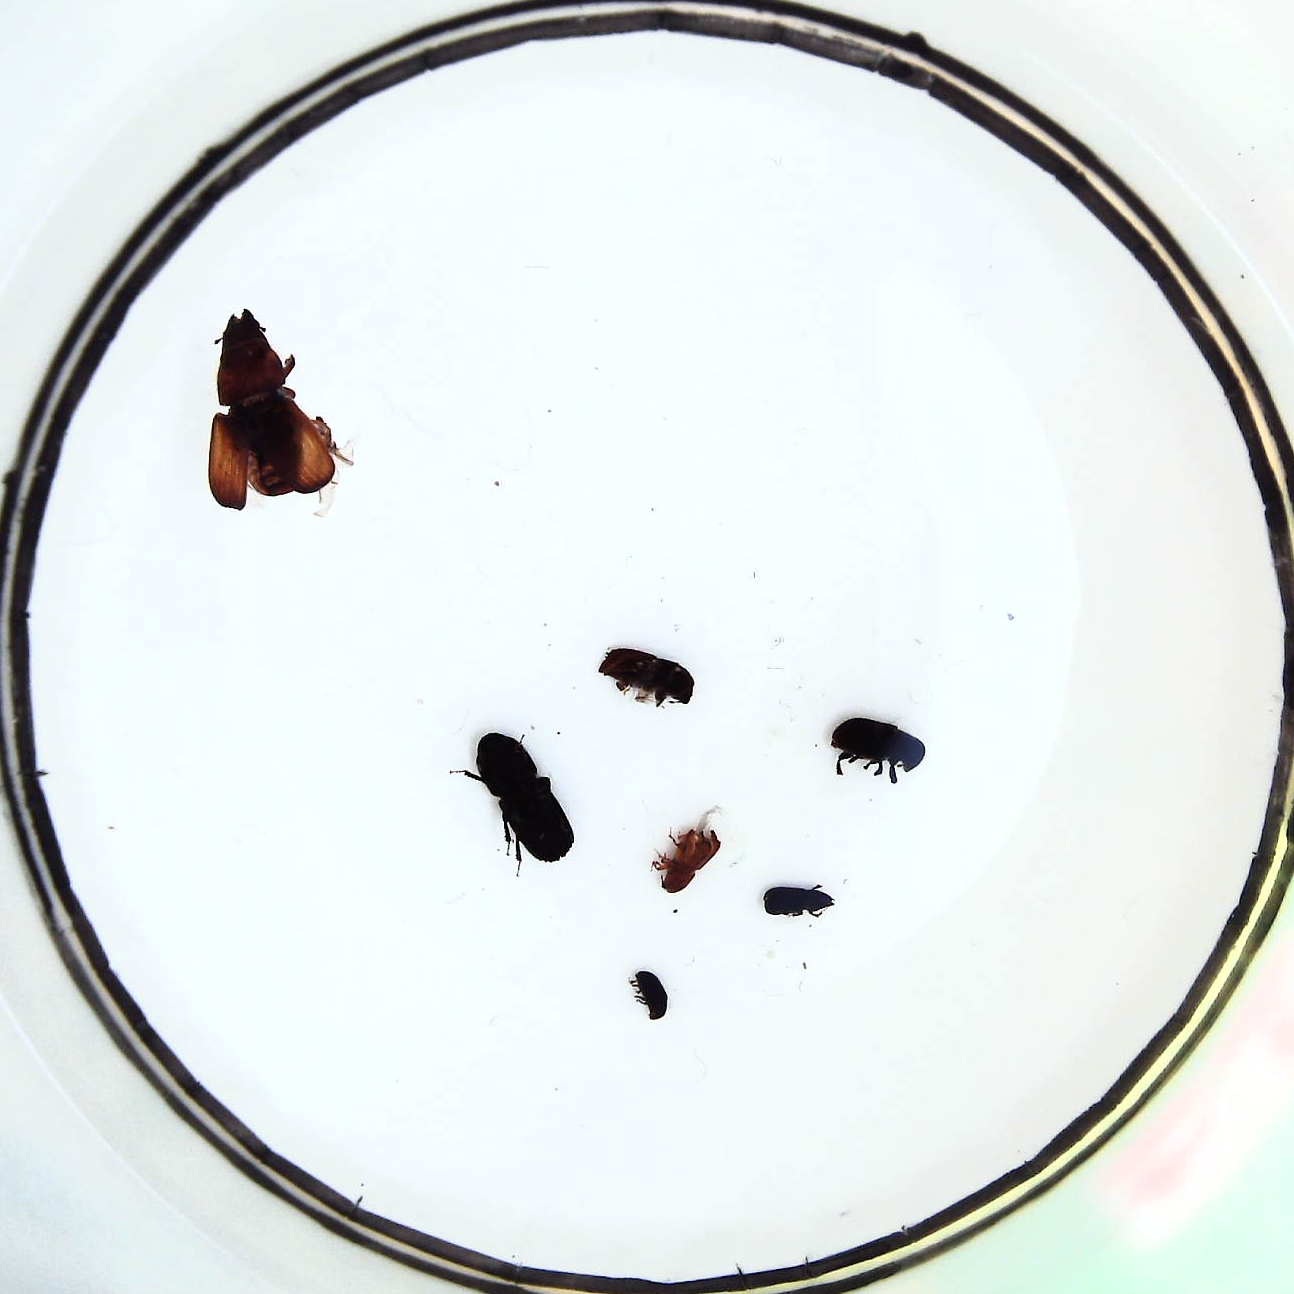Boerner: (473, 731, 574, 866)
Leconte: (213, 310, 334, 510)
Linnaeus: (600, 643, 692, 706)
acuminatus: (656, 824, 716, 893)
armandi: (828, 715, 925, 779)
coleoptera: (760, 884, 831, 915), (630, 966, 668, 1018)
